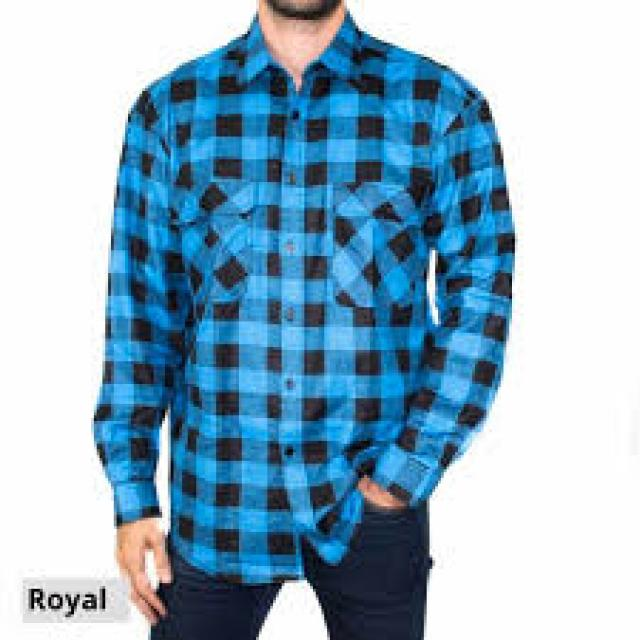plaid: (105, 20, 512, 569)
